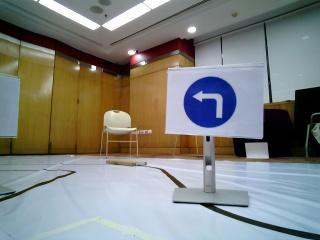left: (179, 68, 250, 134)
